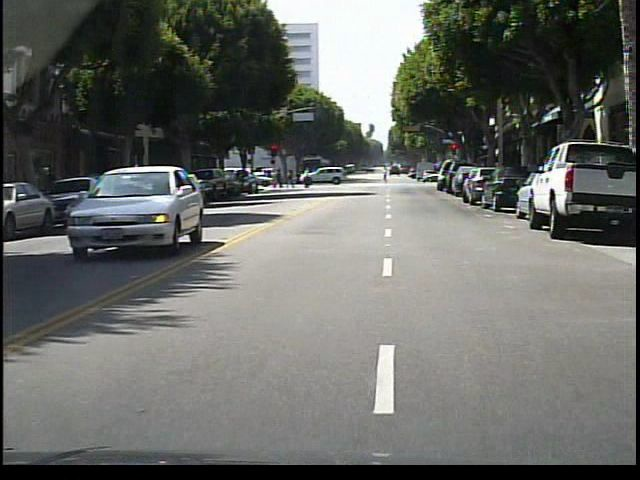person: (299, 164, 319, 194)
